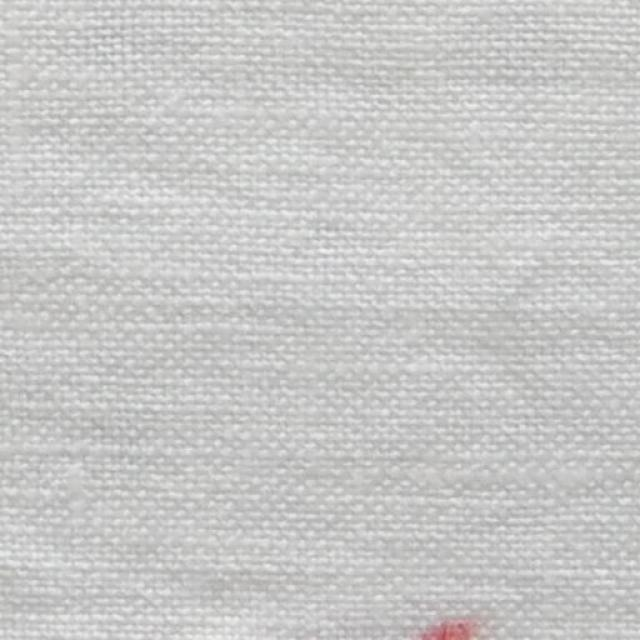Stain: (421, 621, 475, 639)
